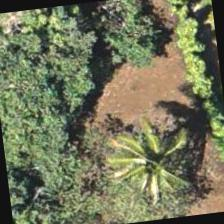Kelapa_Sawit: (102, 116, 202, 216)
